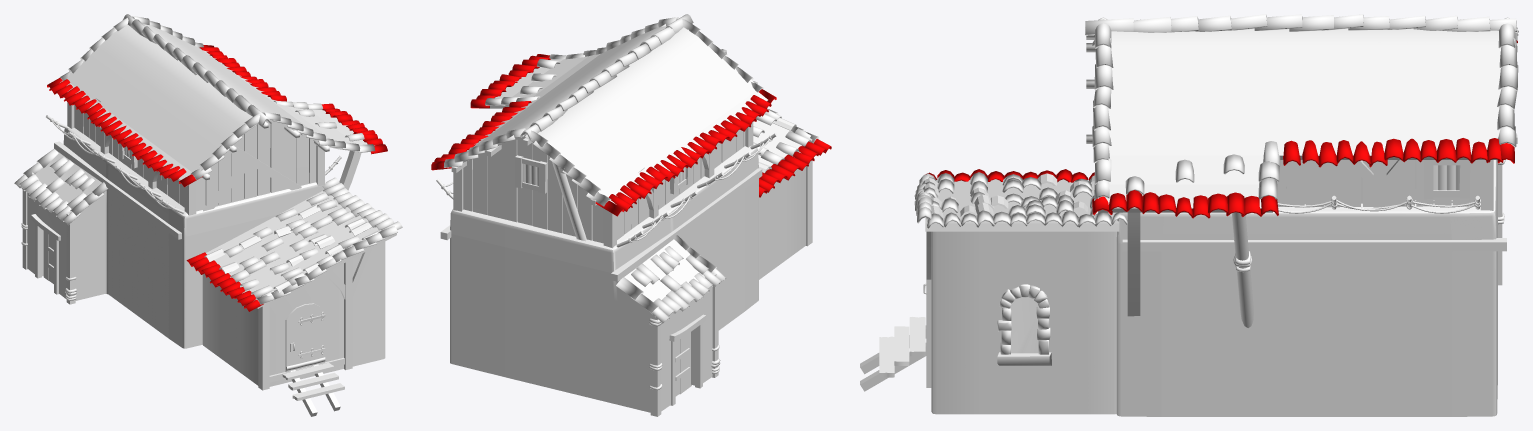
Rendered from SM_WaterMill_House.FBX.
3 views of the same model, side by side, from view 1: azimuth 30°, elevation 25°; view 2: azimuth 150°, elevation 25°; view 3: azimuth 270°, elevation 25° (orthographic). The views are drawn at different scales.
Visible parts, largest first — view 1: SM_WaterMill_House_LOD0; view 2: SM_WaterMill_House_LOD0; view 3: SM_WaterMill_House_LOD0.
Part boxes in pixels (bbox=[...]): SM_WaterMill_House_LOD0: bbox=[14, 14, 402, 416]; SM_WaterMill_House_LOD0: bbox=[431, 14, 831, 416]; SM_WaterMill_House_LOD0: bbox=[860, 14, 1518, 416].
Bounding box in the file's own units: 1233 × 1835 × 1159.
